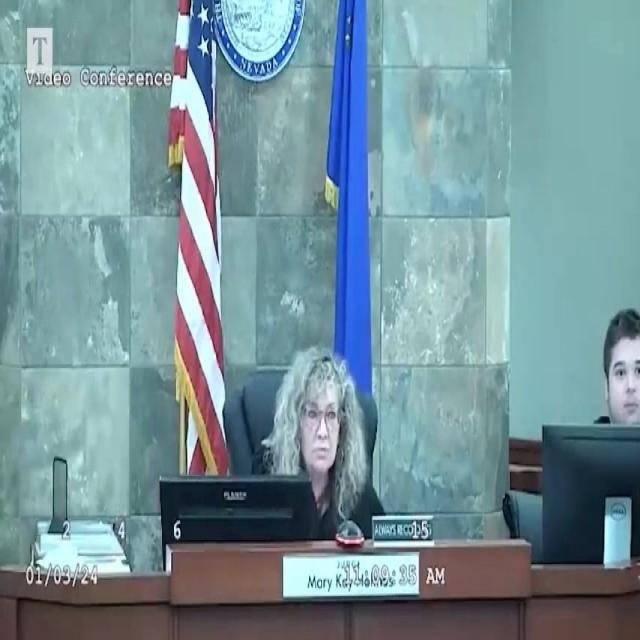non-fight: (249, 338, 382, 541), (586, 302, 640, 428)
